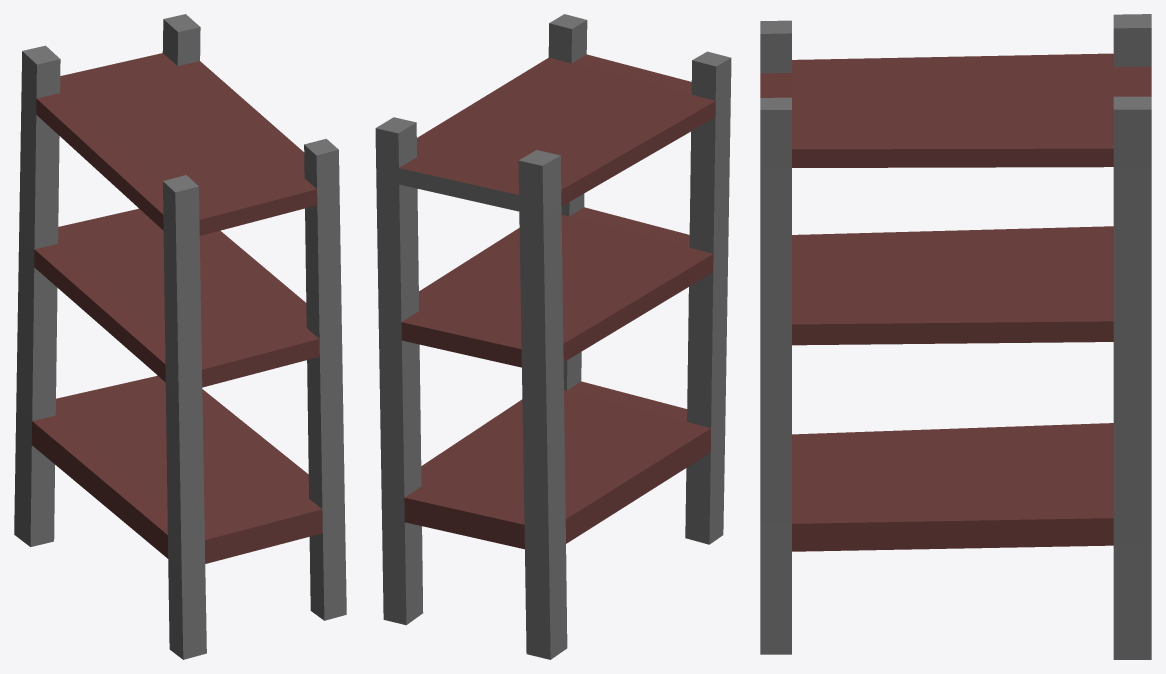
The model's file is Shelf.fbx.
3 renders of one model, left to right at view 1: azimuth 30°, elevation 25°; view 2: azimuth 150°, elevation 25°; view 3: azimuth 270°, elevation 25°, orthographic. The views are drawn at different scales.
Visible parts, largest first — view 1: Shelf; view 2: Shelf; view 3: Shelf.
Part boxes in pixels (x1,y1,x2,y2): Shelf: [14, 14, 346, 659]; Shelf: [375, 14, 731, 659]; Shelf: [760, 14, 1151, 659].
Bounding box in the file's own units: 1.23 × 3.15 × 2.
